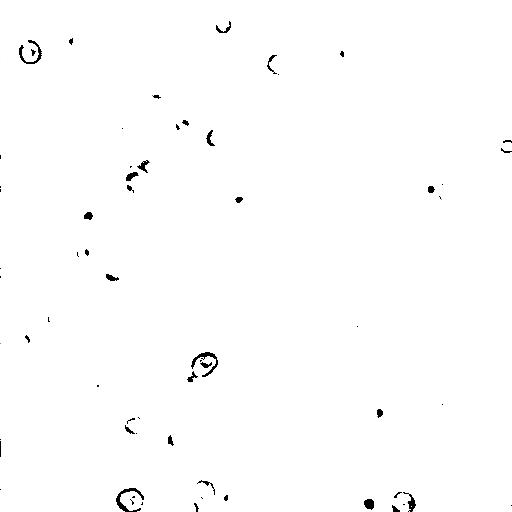micro-algae: (134, 126, 210, 198), (74, 353, 144, 423), (270, 12, 340, 80), (252, 469, 317, 511), (451, 472, 512, 512), (376, 168, 422, 214), (418, 387, 465, 420), (164, 109, 201, 147), (362, 398, 398, 429), (119, 169, 153, 200), (147, 451, 181, 482), (62, 26, 92, 59), (86, 363, 116, 392), (105, 121, 136, 149), (134, 154, 162, 184), (82, 446, 112, 474), (76, 202, 102, 233), (217, 484, 245, 512), (352, 489, 386, 512), (269, 315, 300, 340), (190, 352, 219, 378), (97, 257, 127, 282), (115, 487, 145, 512), (436, 178, 462, 205), (19, 39, 43, 66), (344, 309, 371, 333), (123, 414, 150, 438), (410, 0, 456, 14), (16, 327, 40, 353), (390, 490, 418, 512), (179, 365, 203, 390), (265, 53, 291, 76), (45, 304, 67, 330), (418, 176, 441, 200), (117, 0, 142, 21), (75, 239, 97, 262), (194, 478, 216, 500), (330, 40, 349, 64), (261, 101, 282, 122), (146, 438, 167, 458), (206, 127, 225, 147), (215, 14, 232, 35), (165, 430, 186, 446), (176, 498, 199, 512), (230, 191, 249, 207), (446, 79, 461, 95), (500, 138, 512, 155)
